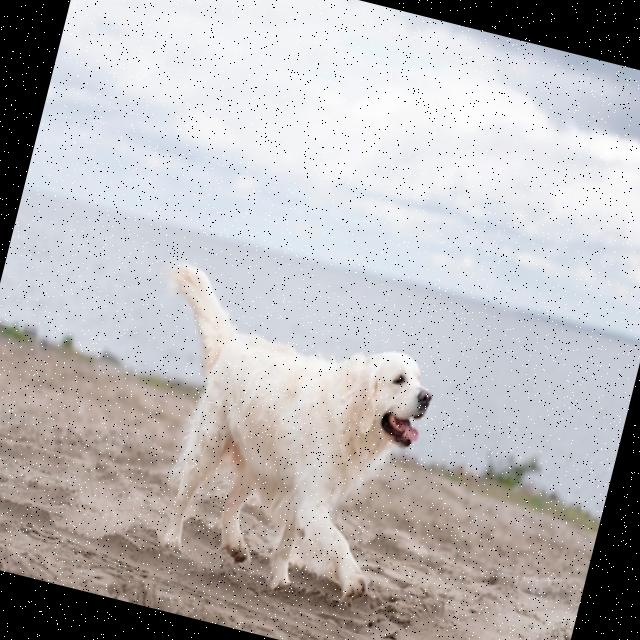Dog: (101, 256, 448, 612)
